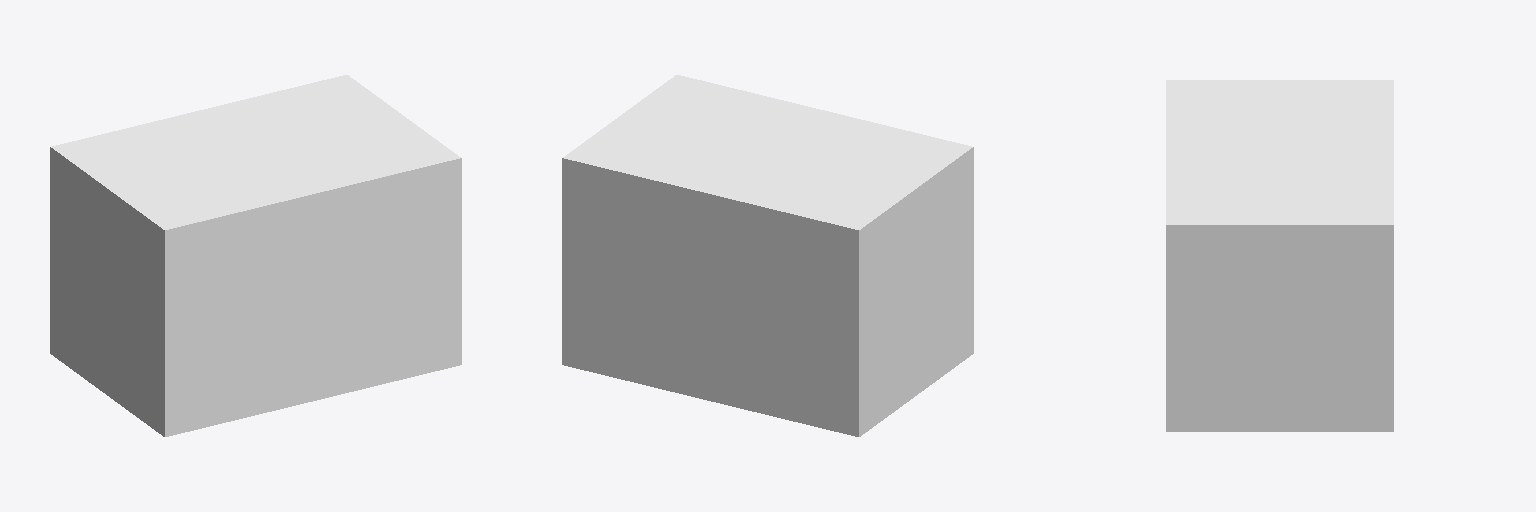
File: brickx12.obj
3 renders of one model, left to right at view 1: azimuth 30°, elevation 25°; view 2: azimuth 150°, elevation 25°; view 3: azimuth 270°, elevation 25°, orthographic.
Parts seen in each view (by area): view 1: object 1; view 2: object 1; view 3: object 1.
Boxes of the visible parts, box(x1,y1,x2,y2) form: object 1: box(50, 75, 461, 436); object 1: box(562, 75, 973, 436); object 1: box(1166, 80, 1393, 431).
Size of the model in its own units: 1.2 by 0.8 by 0.8.